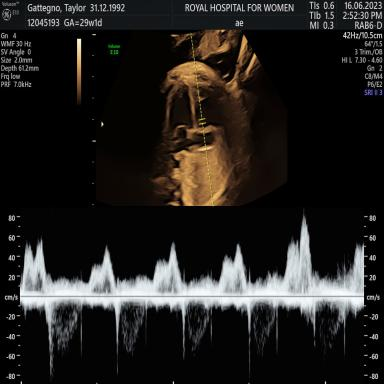Ultrasound-Waves: (28, 212, 364, 384)
